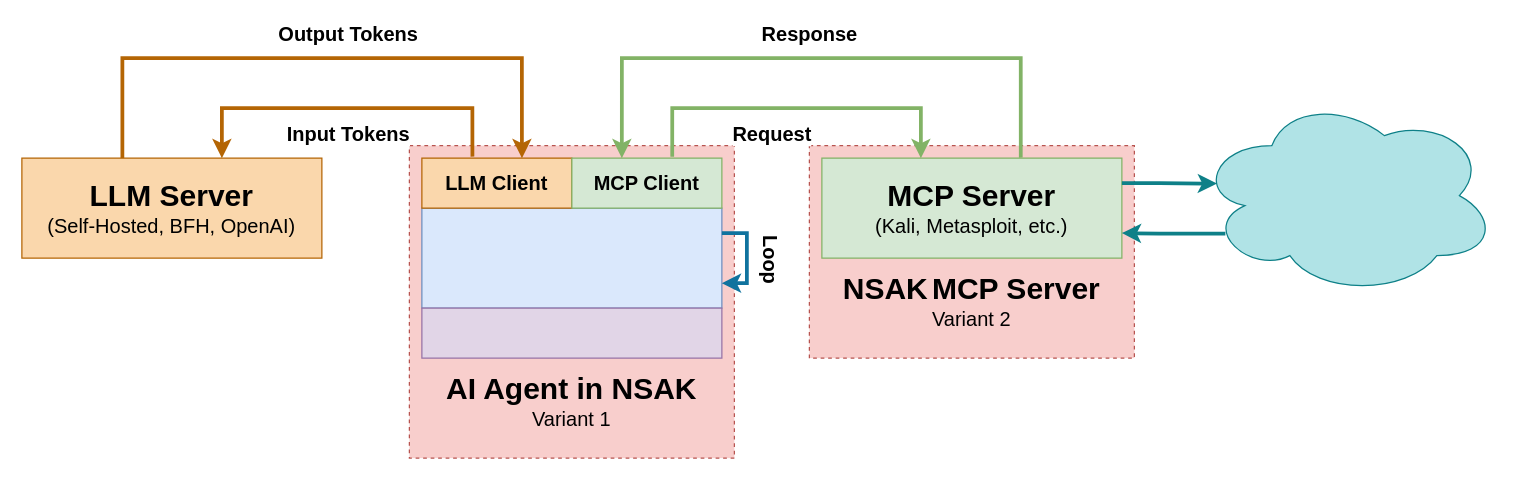
Image size: 1519x480. Some labels were removed from this diagram. The centre of each missing label's shape, as x and y in pixels:
"3rd Party Tools & Systems" goes at (x=1346, y=195).
"AI Agent (e.g., OpenClaw)" goes at (x=571, y=257).
"Persisted State/Context" goes at (x=571, y=332).
